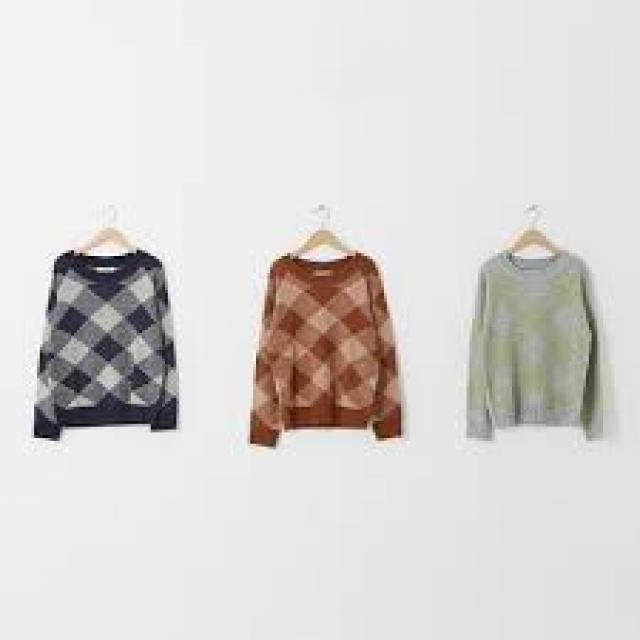plaid: (461, 245, 613, 438), (250, 256, 404, 445), (30, 251, 182, 438)
